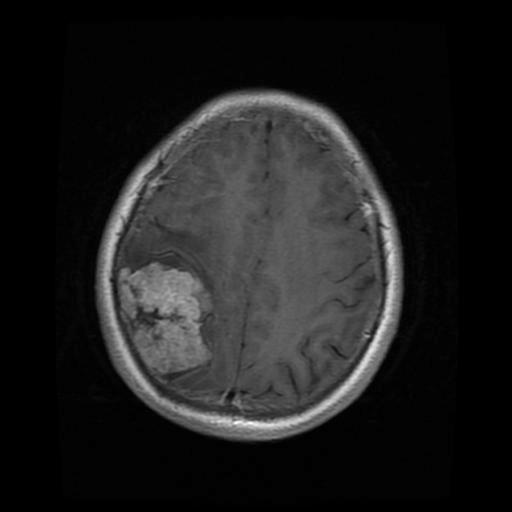Tumour-Meningioma: (115, 256, 227, 397)
